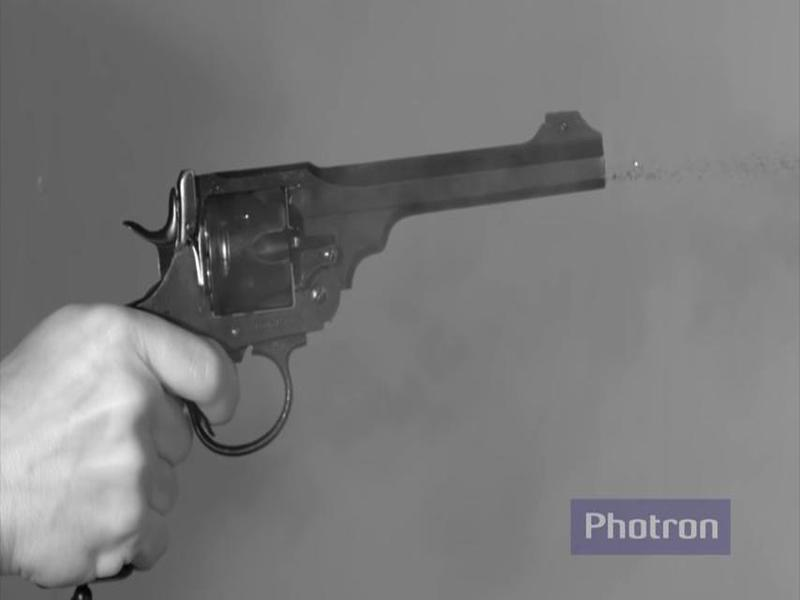Revolver: (98, 87, 623, 455)
